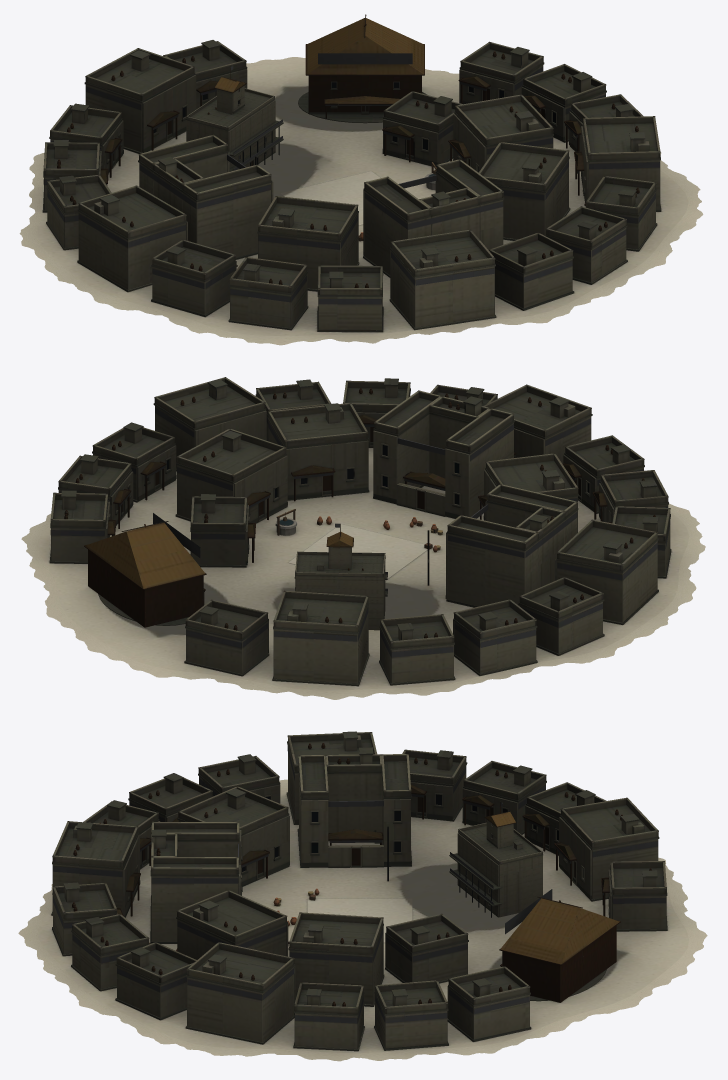
The model's file is gunpowder-town-big-a-eastafrica-4d534839.glb.
3 views of the same model, one above another, from view 1: azimuth 30°, elevation 25°; view 2: azimuth 150°, elevation 25°; view 3: azimuth 270°, elevation 25° (orthographic).
Parts seen in each view (by area): view 1: LOD0; view 2: LOD0; view 3: LOD0.
Boxes of the visible parts, x1,y1,x2,y2 form: LOD0: (19,14,703,345); LOD0: (21,377,705,699); LOD0: (18,731,707,1061).
Size of what is drawn, in the model's own units: 7.89 by 1.23 by 8.04.
3 materials, 3 textured.
